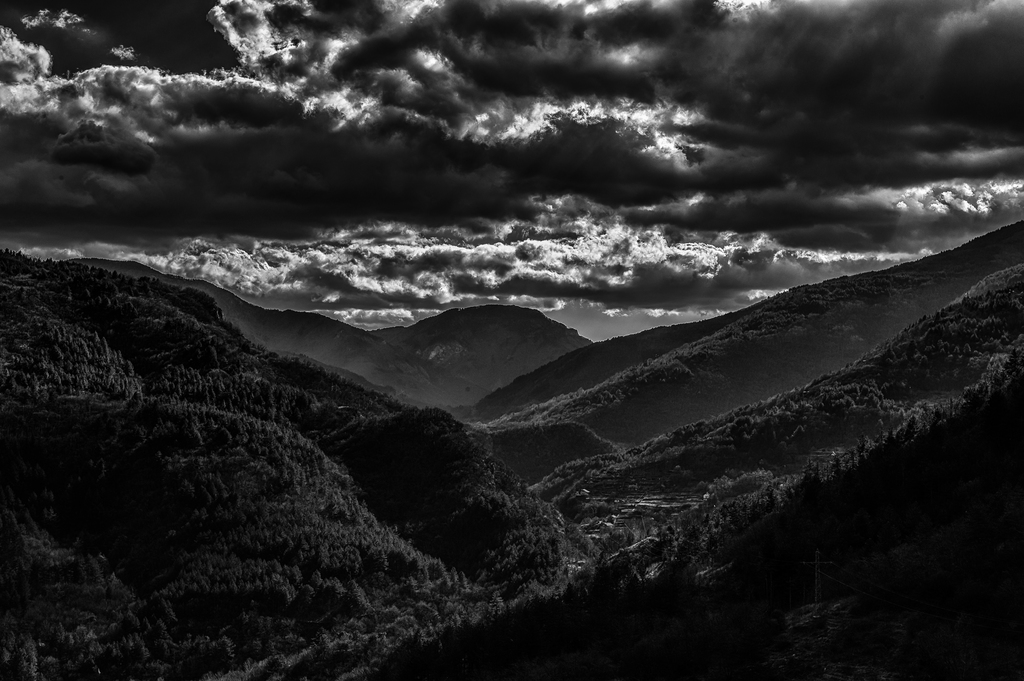Tree: (0, 242, 1022, 680)
